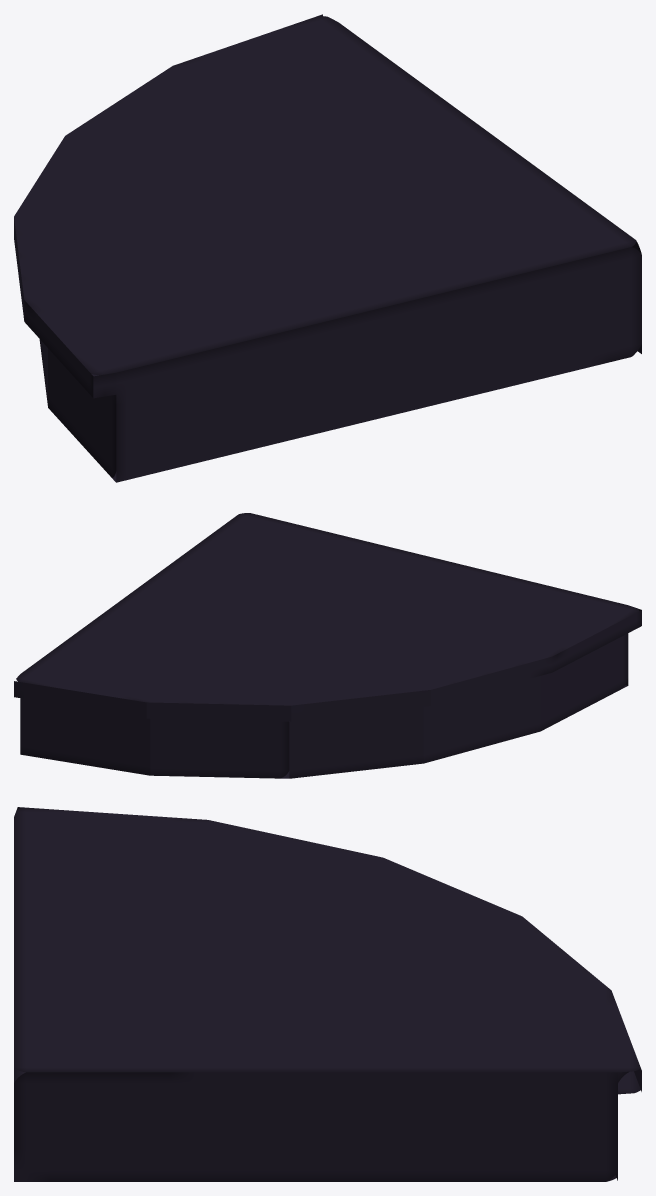
The model's file is Path_Standard_Corner.obj.
The picture shows the model from 3 angles, top to bottom: view 1: azimuth 30°, elevation 25°; view 2: azimuth 150°, elevation 25°; view 3: azimuth 270°, elevation 25°; orthographic projection. The views are drawn at different scales.
Visible parts, largest first — view 1: cylinder; view 2: cylinder; view 3: cylinder.
Boxes of the visible parts, left/top/right/bottom form: cylinder: left=14, top=14, right=641, bottom=482; cylinder: left=14, top=513, right=641, bottom=778; cylinder: left=14, top=807, right=641, bottom=1181.
Bounding box in the file's own units: 1.62 × 0.3125 × 1.62.
1 material, 1 textured.
